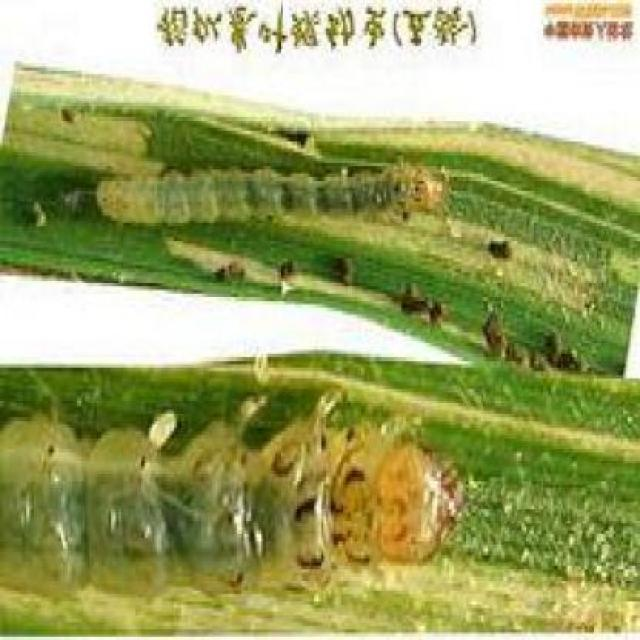leaf-folder: (0, 370, 452, 586), (62, 145, 460, 249)
